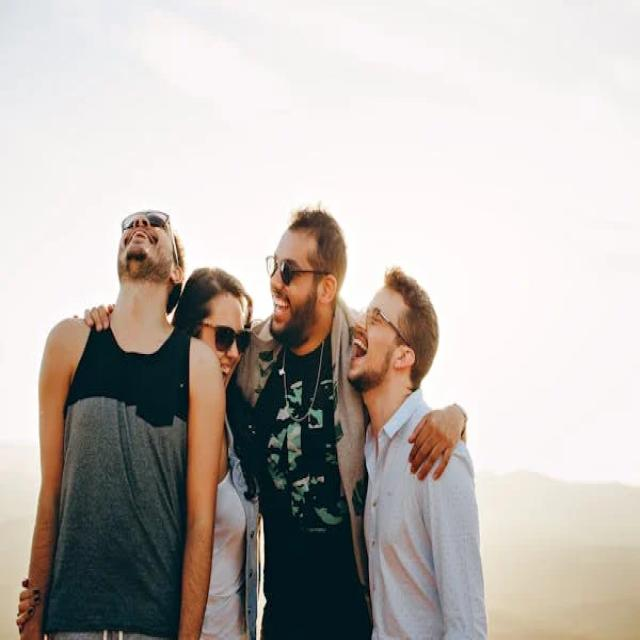Real human 2: (26, 185, 505, 640)
